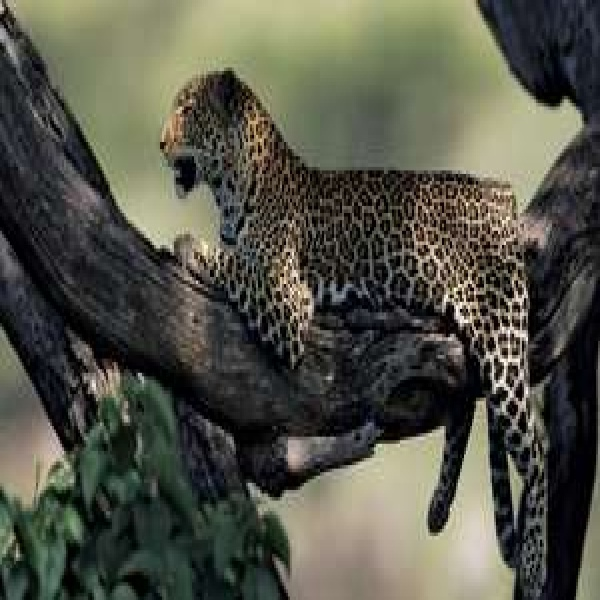Leopard: (155, 66, 554, 596)
